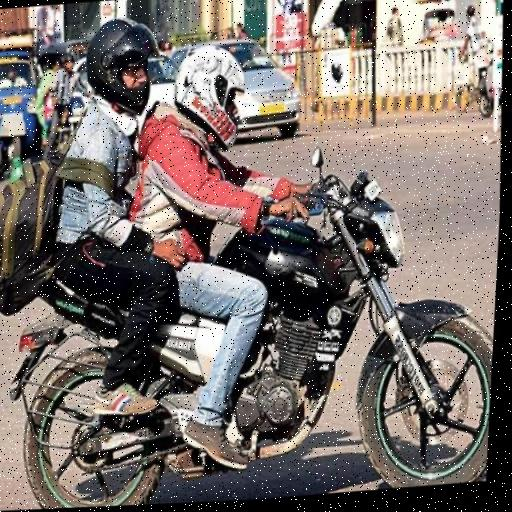Helmet: (76, 14, 166, 128), (169, 41, 253, 145)
Motor: (0, 133, 506, 512)
